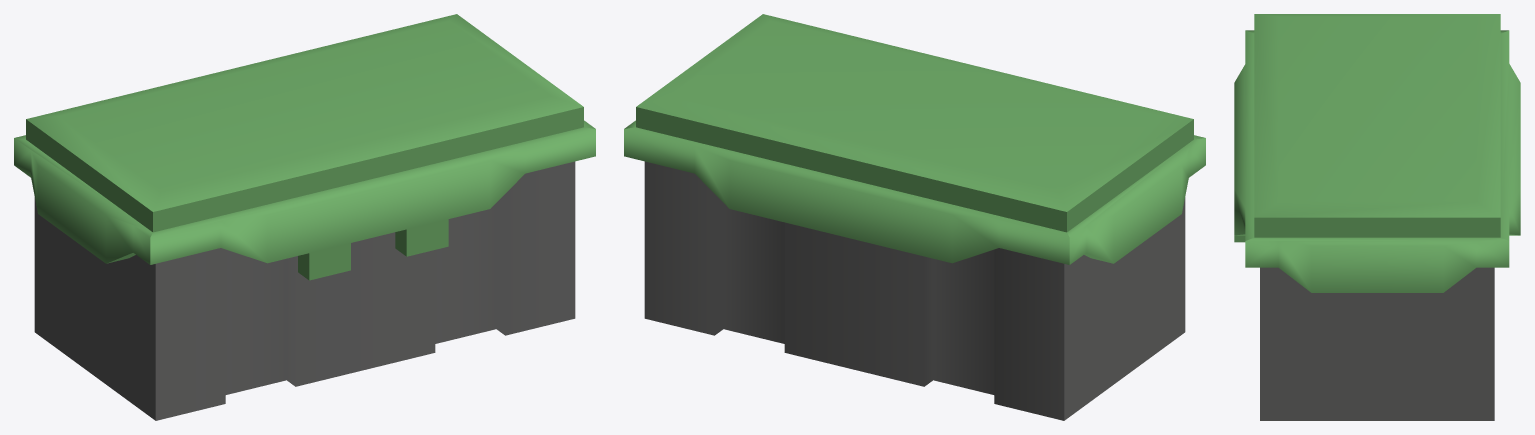
The model's file is Guncase.fbx.
3 renders of one model, left to right at view 1: azimuth 30°, elevation 25°; view 2: azimuth 150°, elevation 25°; view 3: azimuth 270°, elevation 25°, orthographic. The views are drawn at different scales.
Parts seen in each view (by area): view 1: GuncaseLid, GuncaseBody; view 2: GuncaseLid, GuncaseBody; view 3: GuncaseLid, GuncaseBody.
Boxes of the visible parts, x1,y1,x2,y2 form: GuncaseLid: (14,14,595,280); GuncaseBody: (34,161,575,420); GuncaseLid: (624,14,1205,264); GuncaseBody: (644,161,1185,420); GuncaseLid: (1234,14,1520,292); GuncaseBody: (1260,267,1494,420).
Bounding box in the file's own units: 88.84 × 40 × 48.85.
